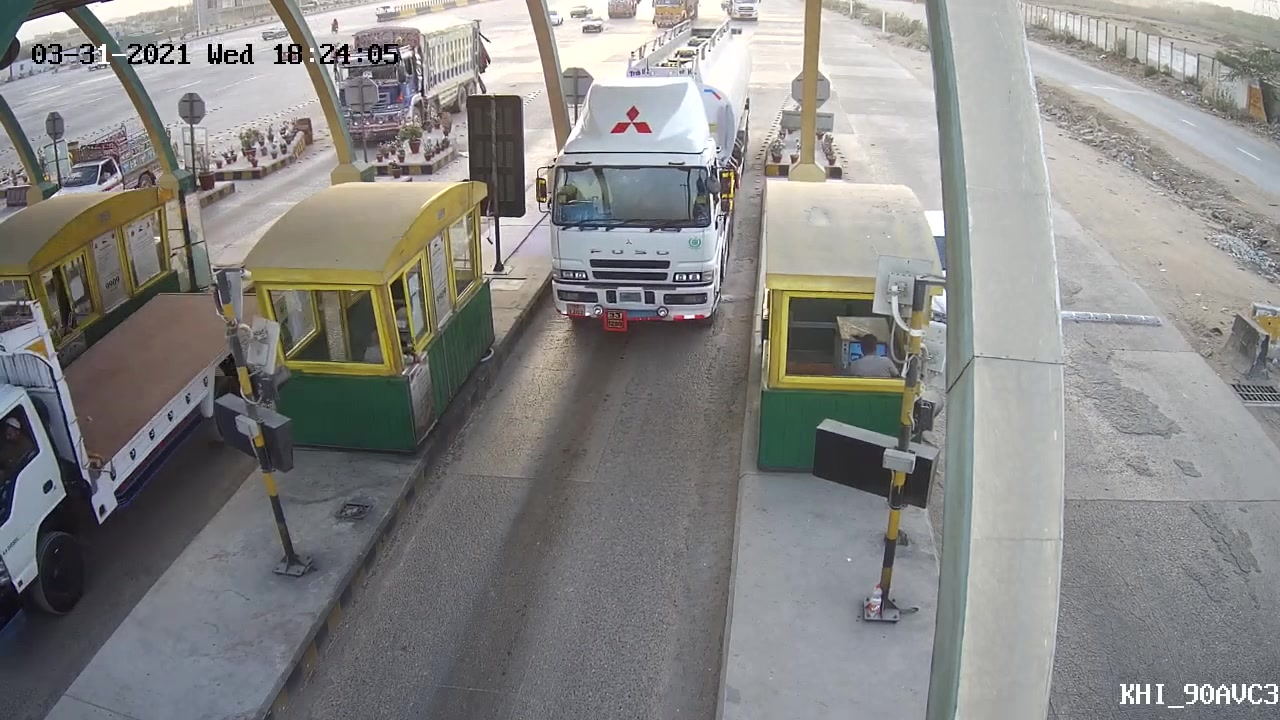F6: (530, 55, 757, 335)
